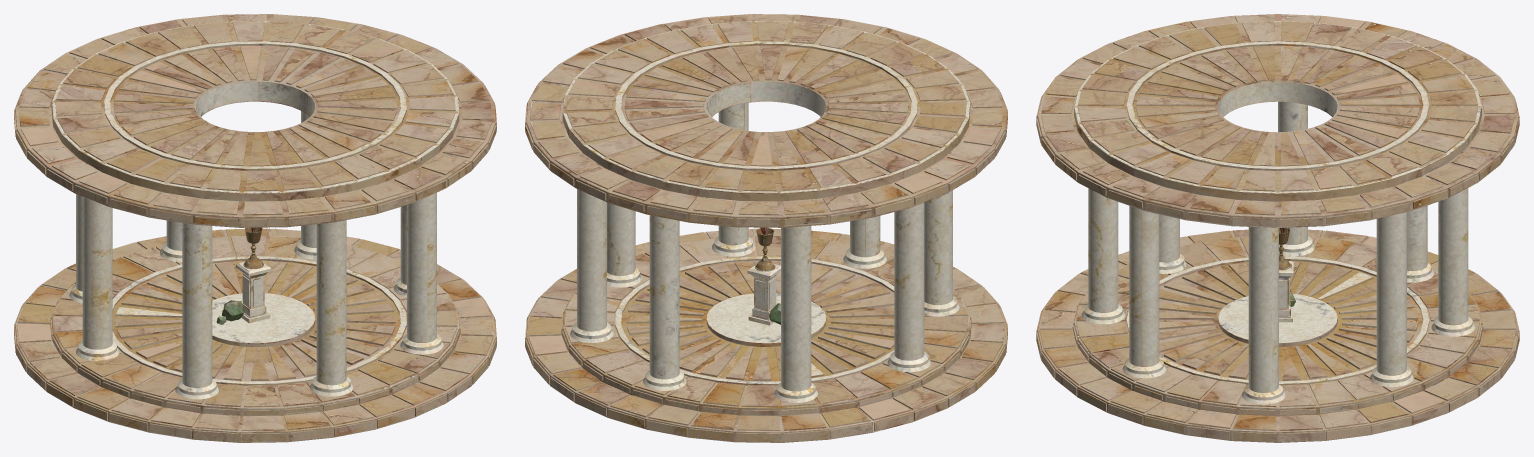
Rendered from alter.glb.
3 renders of one model, left to right at view 1: azimuth 30°, elevation 25°; view 2: azimuth 150°, elevation 25°; view 3: azimuth 270°, elevation 25°, orthographic.
Parts seen in each view (by area): view 1: Cylinder.009, Cylinder, Circle.007, Circle.010, Circle.006, Circle.001, Cube, Circle.005, Circle.004, Circle.002, Circle.003, Circle; view 2: Cylinder.009, Cylinder, Circle.005, Circle.004, Circle.006, Circle.003, Circle.007, Circle.002, Circle.001, Circle.010, Cube, Circle; view 3: Cylinder.009, Cylinder, Circle.002, Circle.003, Circle.001, Circle.004, Circle.010, Circle.005, Circle.006, Circle.007, Cube.
Part boxes in pixels (<box>): Cylinder.009: <box>14,14,496,227</box>; Cylinder: <box>14,228,496,442</box>; Circle.007: <box>175,223,218,399</box>; Circle.010: <box>310,220,353,396</box>; Circle.006: <box>76,197,119,361</box>; Circle.001: <box>400,192,443,354</box>; Cube: <box>236,261,271,323</box>; Circle.005: <box>69,194,112,303</box>; Circle.004: <box>160,220,182,262</box>; Circle.002: <box>394,205,437,296</box>; Circle.003: <box>294,111,316,259</box>; Circle: <box>243,227,263,268</box>; Cylinder.009: <box>525,14,1007,227</box>; Cylinder: <box>525,228,1007,442</box>; Circle.005: <box>774,226,817,402</box>; Circle.004: <box>643,215,686,390</box>; Circle.006: <box>887,203,931,372</box>; Circle.003: <box>570,189,613,342</box>; Circle.007: <box>924,190,959,316</box>; Circle.002: <box>607,202,642,287</box>; Circle.001: <box>712,103,755,256</box>; Circle.010: <box>843,216,886,268</box>; Cube: <box>747,264,780,325</box>; Circle: <box>755,227,775,271</box>; Cylinder.009: <box>1036,14,1519,227</box>; Cylinder: <box>1036,229,1519,442</box>; Circle.002: <box>1242,227,1285,404</box>; Circle.003: <box>1370,212,1413,387</box>; Circle.001: <box>1122,206,1166,378</box>; Circle.004: <box>1431,188,1475,336</box>; Circle.010: <box>1081,188,1125,324</box>; Circle.005: <box>1407,205,1434,282</box>; Circle.006: <box>1278,101,1314,256</box>; Circle.007: <box>1159,214,1186,273</box>; Cube: <box>1279,261,1293,322</box>.
Size of the model in its own units: 10194 by 5500 by 10194.
Materials: 1 (1 with a texture image).
